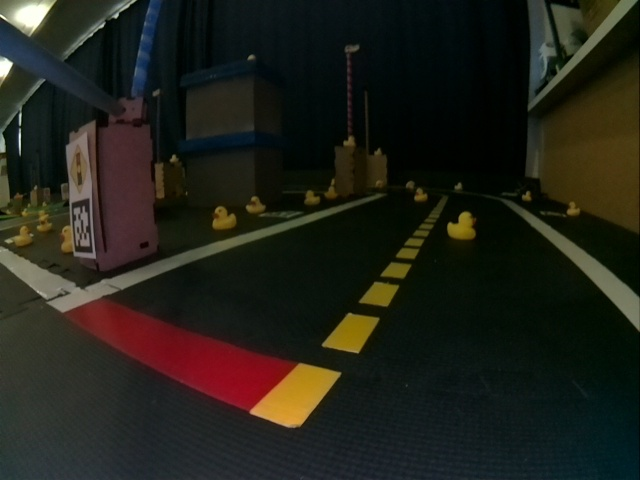Duckie: (449, 212, 475, 238), (212, 206, 236, 229), (15, 227, 31, 246), (61, 226, 71, 252), (304, 190, 320, 204), (248, 199, 264, 212), (567, 202, 580, 215), (414, 189, 427, 200), (38, 219, 48, 229), (522, 191, 531, 201), (455, 182, 464, 191), (343, 136, 353, 144)
QR code: (71, 197, 95, 256)
Signal sign: (66, 143, 91, 193)
